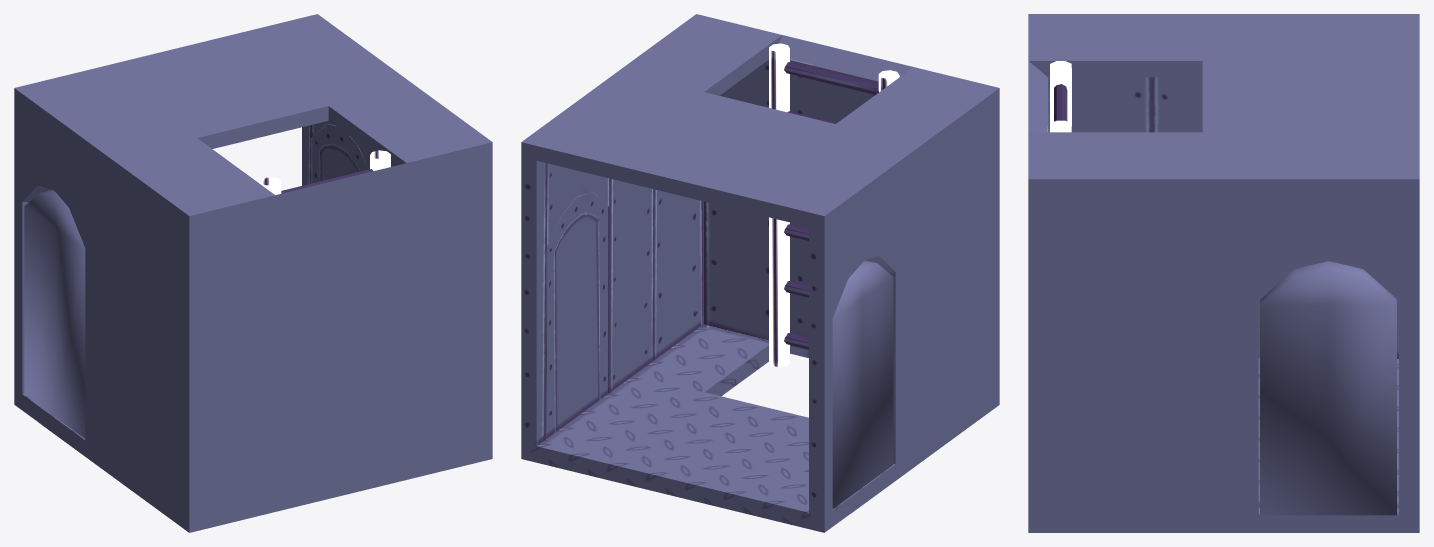
Rendered from ladder.fbx.
3 views of the same model, side by side, from view 1: azimuth 30°, elevation 25°; view 2: azimuth 150°, elevation 25°; view 3: azimuth 270°, elevation 25° (orthographic). The views are drawn at different scales.
Parts seen in each view (by area): view 1: base, base.001, base.002; view 2: base, base.001, base.002; view 3: base, base.002.
Boxes of the visible parts, x1,y1,x2,y2 form: base: (14, 14, 492, 532); base.001: (24, 190, 85, 438); base.002: (312, 124, 367, 183); base: (521, 14, 999, 532); base.001: (832, 260, 893, 508); base.002: (546, 192, 607, 438); base: (1028, 14, 1419, 532); base.002: (1260, 261, 1396, 515).
Bounding box in the file's own units: 401 × 400 × 400.
1 material, 1 textured.
